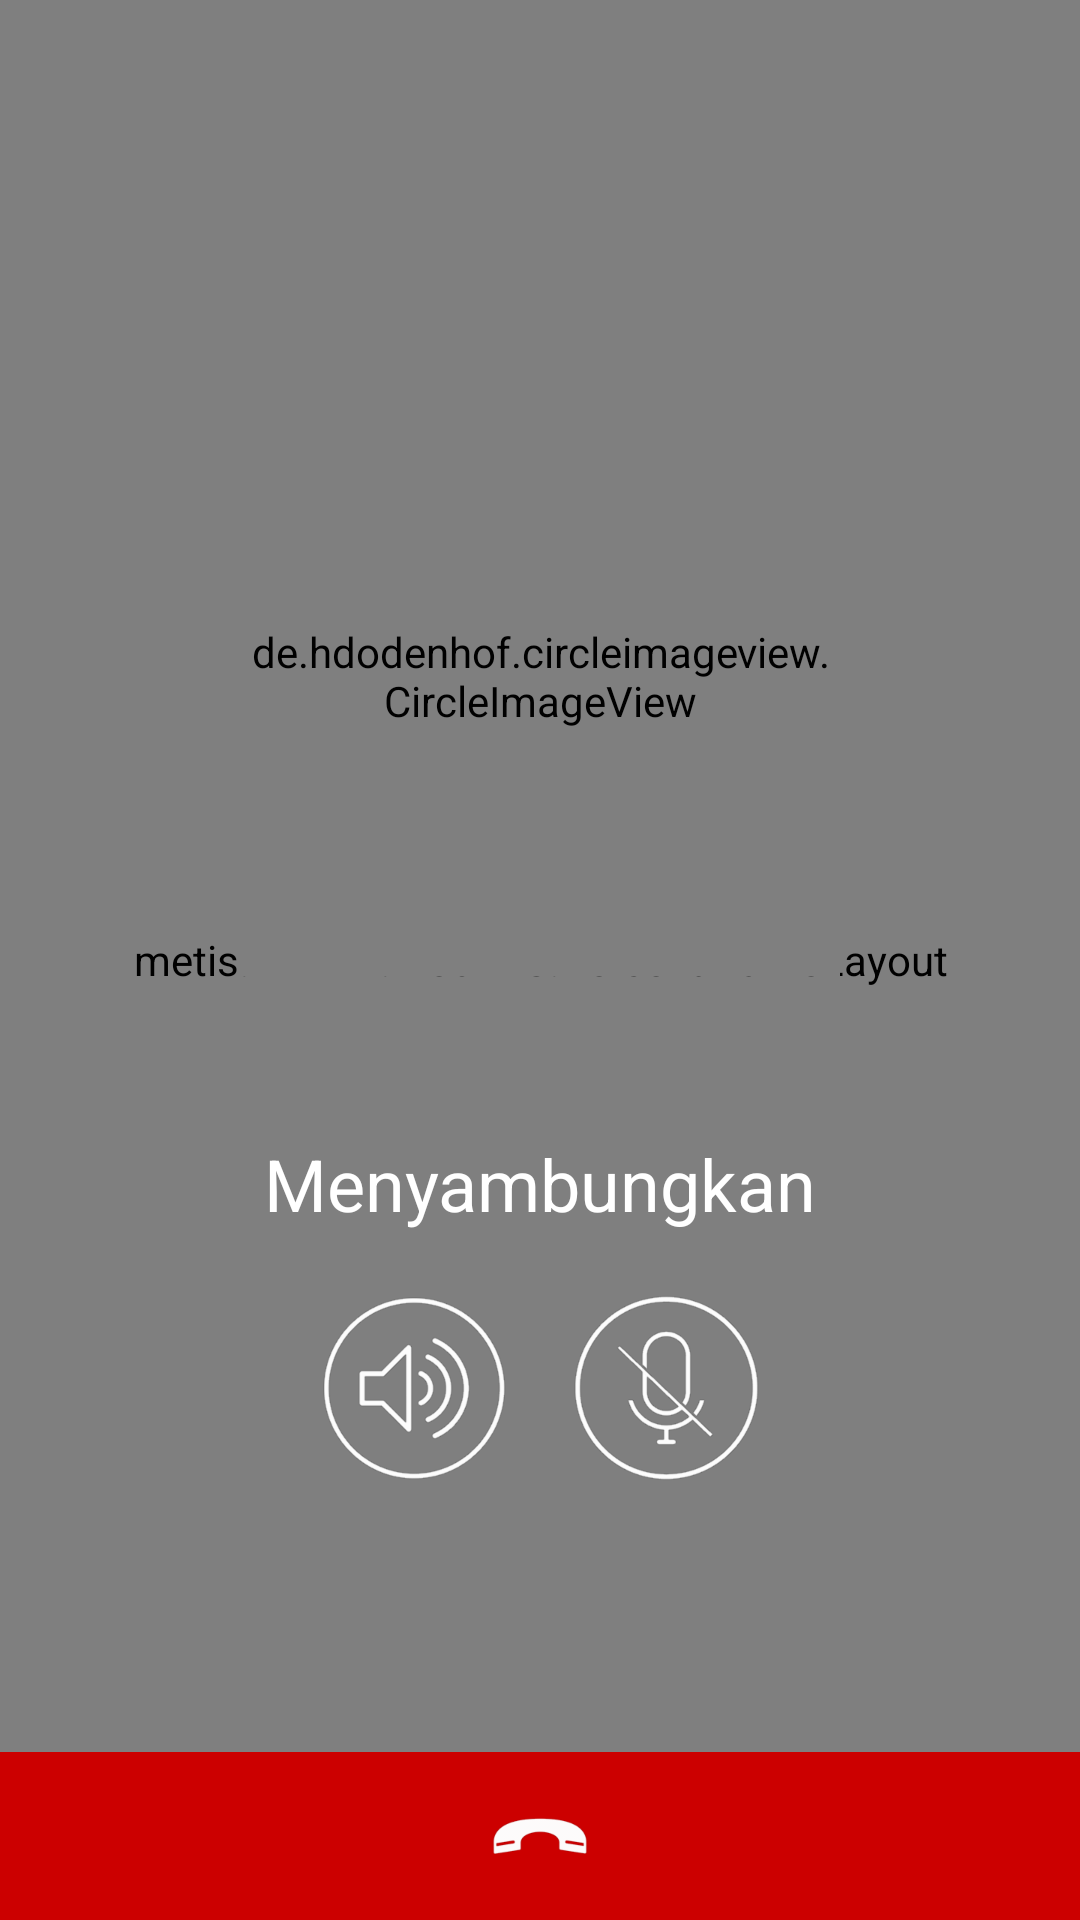

Icons on this 1080x1920 Android screen, each with the point to tap as (x=x, y=y):
calltutup: (x=540, y=1836)
loadspekeroff: (x=414, y=1388)
muteoff: (x=666, y=1388)
